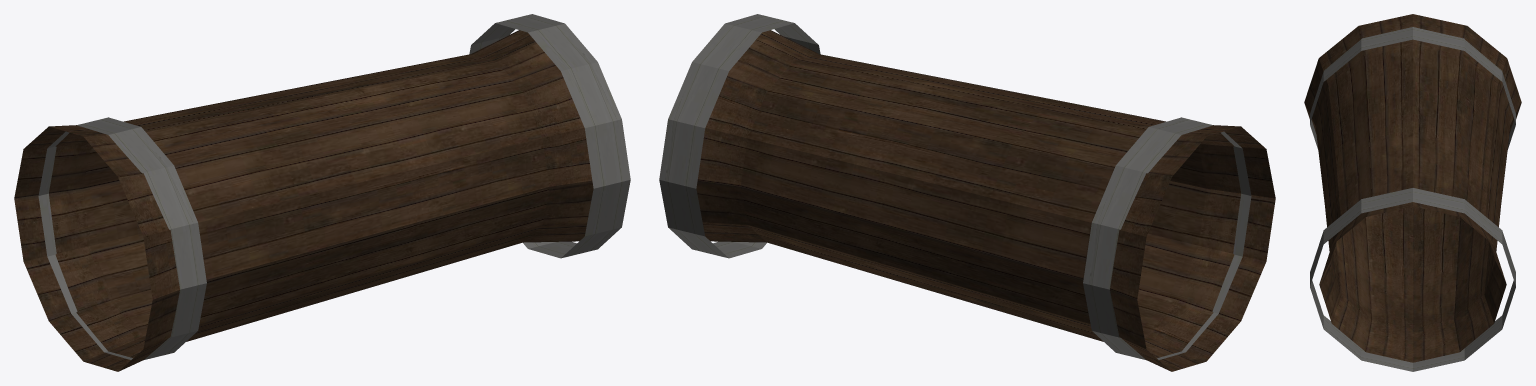
File: eq_past_1_arm.glb
The picture shows the model from 3 angles, left to right: view 1: azimuth 30°, elevation 25°; view 2: azimuth 150°, elevation 25°; view 3: azimuth 270°, elevation 25°; orthographic projection. The views are drawn at different scales.
Parts seen in each view (by area): view 1: eq_past_1_arm; view 2: eq_past_1_arm; view 3: eq_past_1_arm.
Boxes of the visible parts, x1=… form: eq_past_1_arm: x1=14, y1=14, x2=630, y2=371; eq_past_1_arm: x1=659, y1=14, x2=1275, y2=371; eq_past_1_arm: x1=1304, y1=14, x2=1521, y2=371.
Size of the model in its own units: 0.233 by 0.104 by 0.116.
Materials: 2 (2 with a texture image).
